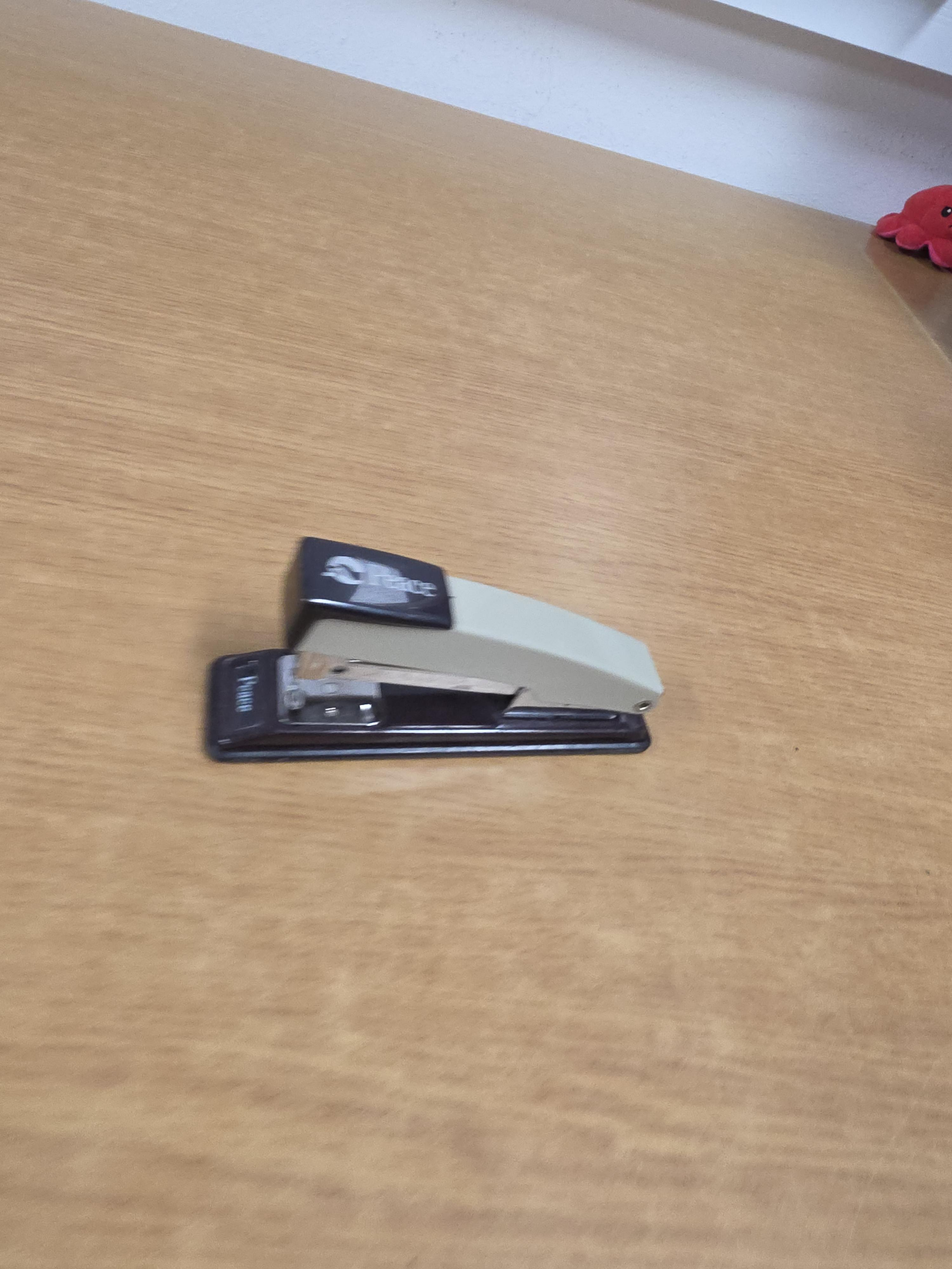stapler: (203, 535, 666, 763)
